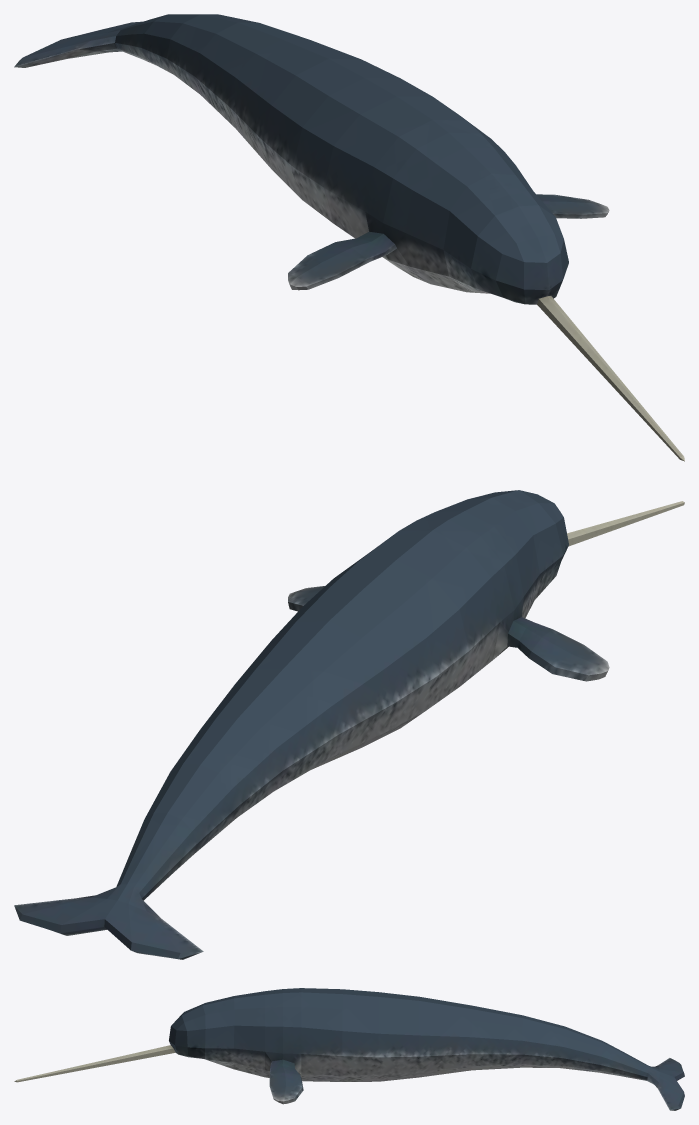
Rendered from animals-narwhal-151.glb.
The picture shows the model from 3 angles, top to bottom: view 1: azimuth 30°, elevation 25°; view 2: azimuth 150°, elevation 25°; view 3: azimuth 270°, elevation 25°; orthographic projection. The views are drawn at different scales.
Parts seen in each view (by area): view 1: Narwhal_mesh; view 2: Narwhal_mesh; view 3: Narwhal_mesh.
Part boxes in pixels (x1,y1,x2,y2): Narwhal_mesh: (14,14,684,461); Narwhal_mesh: (14,490,684,959); Narwhal_mesh: (14,988,684,1110).
Bounding box in the file's own units: 5.05 × 2.62 × 16.22.
1 material, 1 textured.
